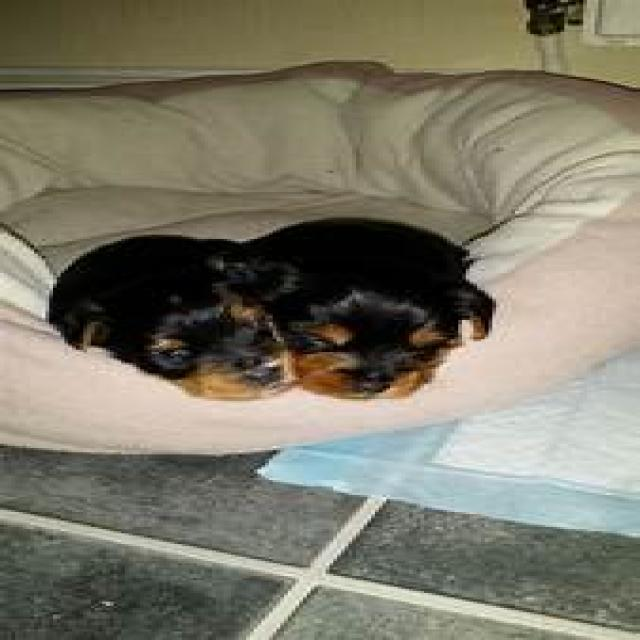KOPEK: (25, 215, 288, 411), (278, 212, 488, 413)
